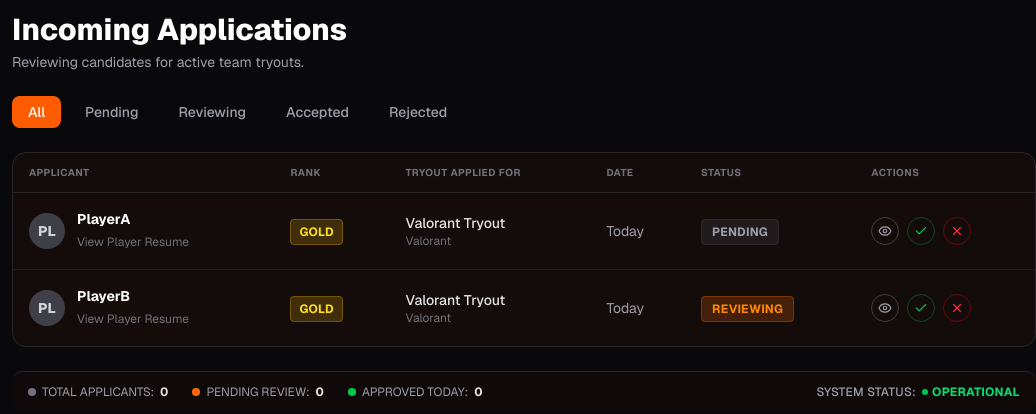
ApplicationsTable › 3: shows only REVIEWING rows when Reviewing filter is active
Note: Use exact name to distinguish from 'Mark as Reviewing' action button
Click the button "Reviewing".
click(212, 112)  # box [162,96,262,128]
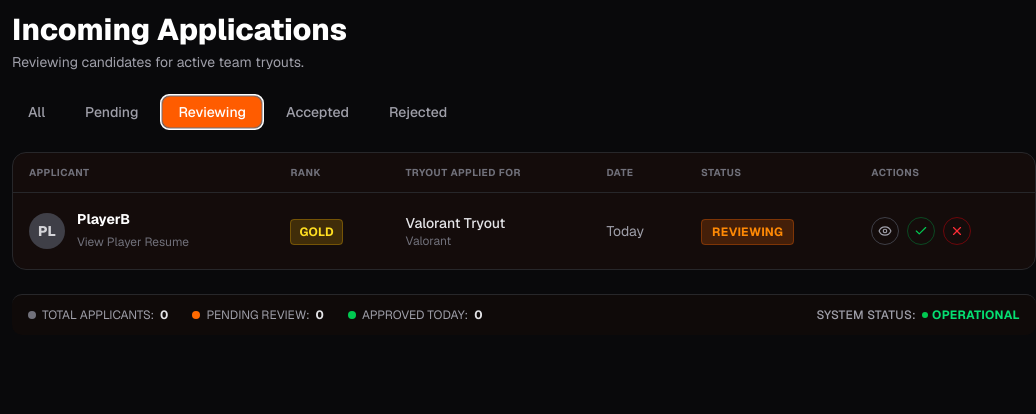
Expected: the text "PlayerB" is shown, [77,210,130,228]
Now the text "PlayerA" is gone
